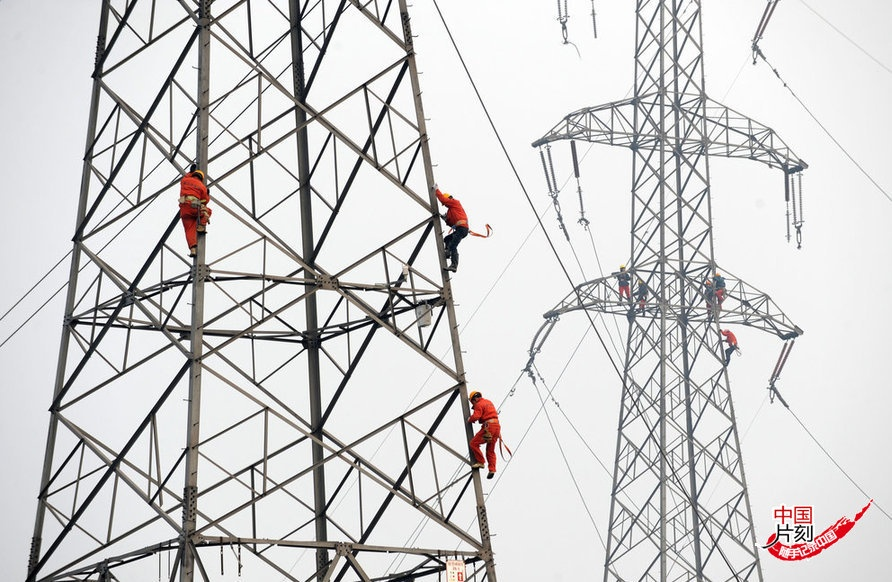yellow: (467, 390, 484, 405), (189, 168, 205, 183), (439, 192, 454, 207)
